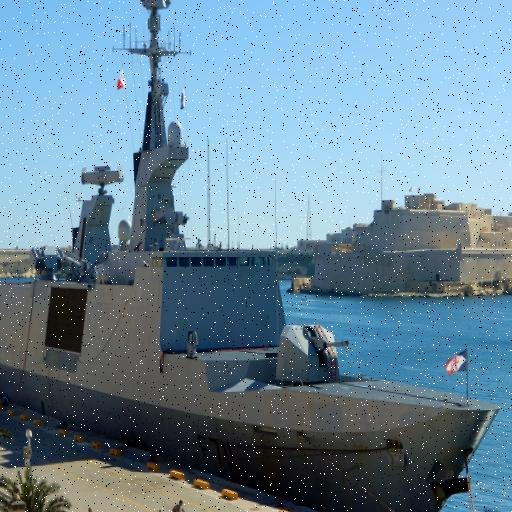Fragata: (1, 1, 507, 512)
